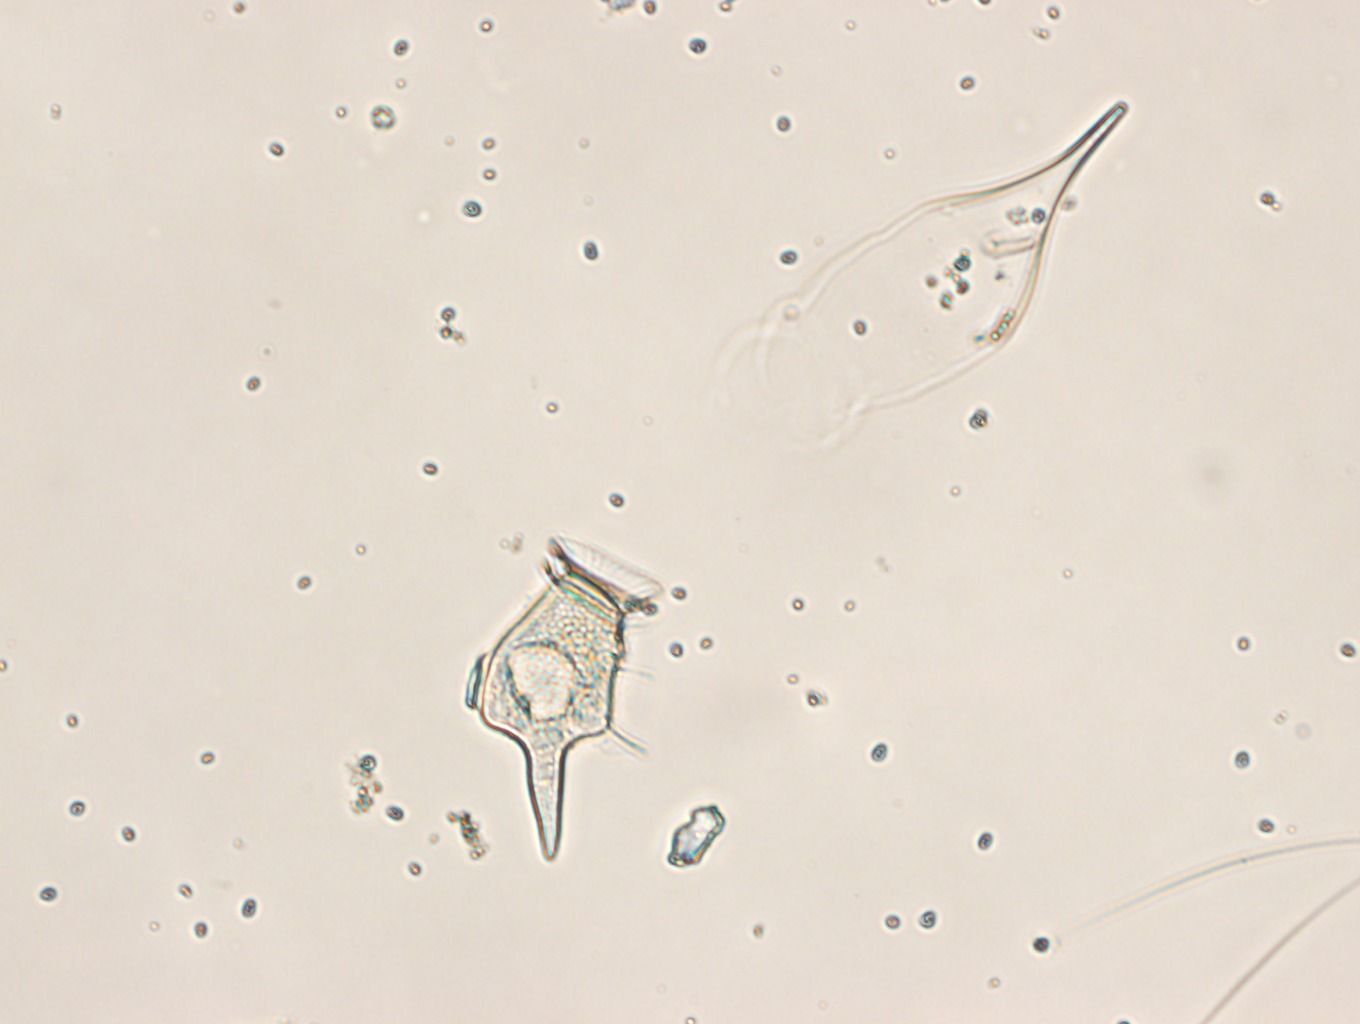dinophysis caudata: (468, 534, 659, 861)
rhizosolenia: (719, 96, 1130, 427)
